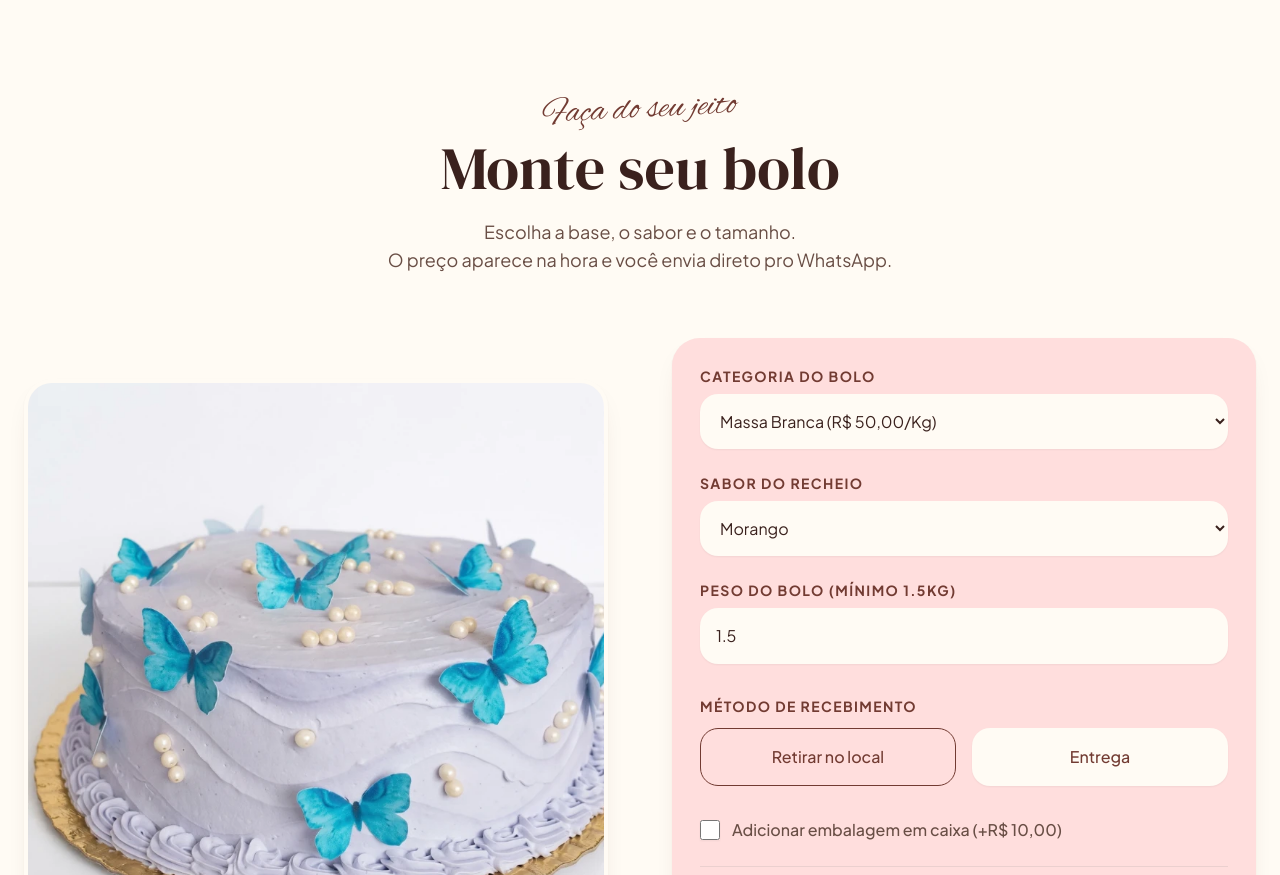
Scenario: OrderForm › deve exibir o campo de endereço quando 'Entrega' for selecionado
Expected: the field with placeholder "Rua, Número, Bairro..." is not shown
Click the text "Entrega". click: click(1100, 757)
box: top-left (1070, 745), bottom-right (1130, 769)
(page scrolled)
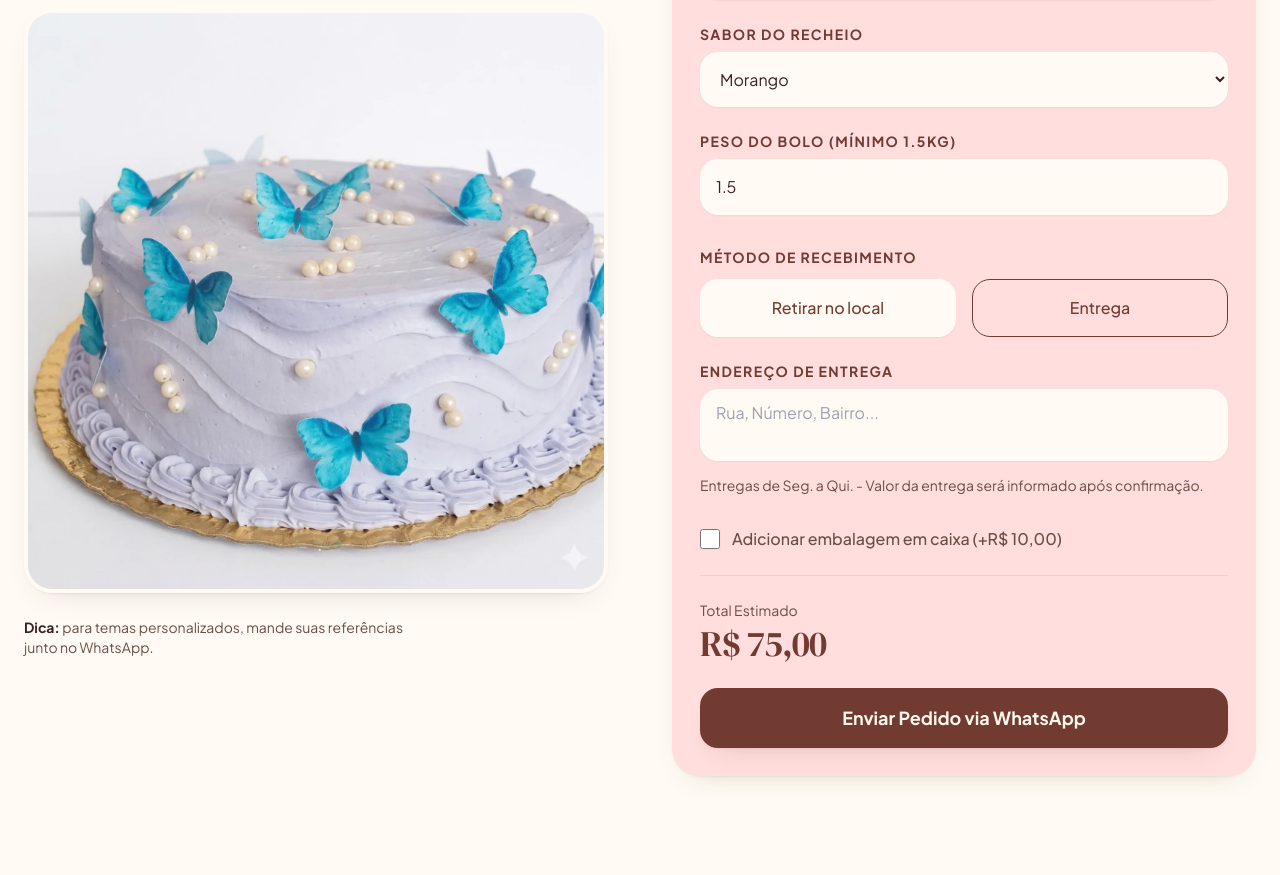
Now the text box with placeholder "Rua, Número, Bairro..." is shown, box top-left (700, 389), bottom-right (1228, 461)
